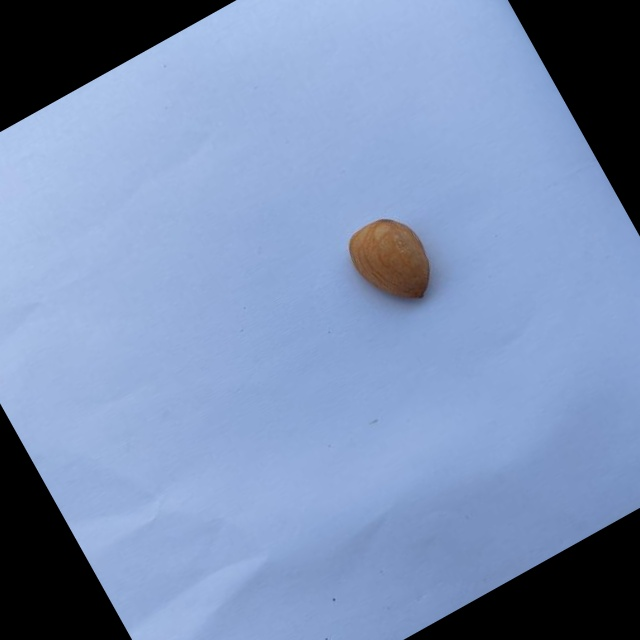grade2: (333, 202, 449, 325)
